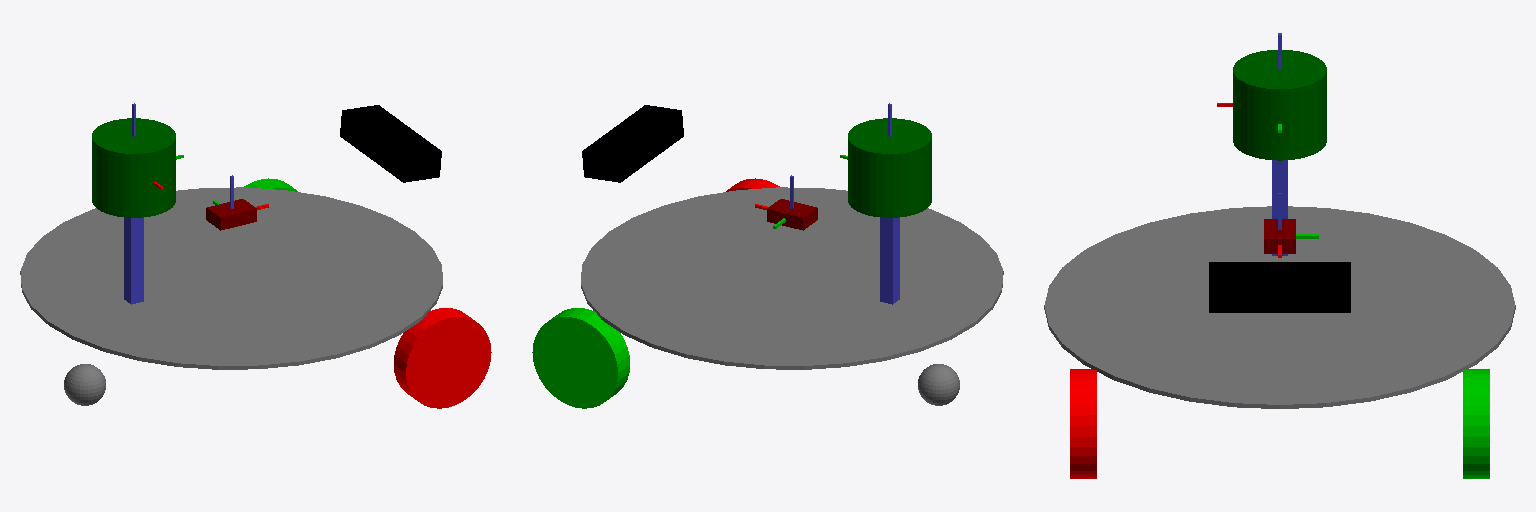
The robot description file, URDF, robot "dome2":
<?xml version="1.0"?>
<robot name="dome2">
  <material name="gray">
    <color rgba="0.5 0.5 0.5 1.0" />
  </material>
  <material name="black">
    <color rgba="0 0 0 1" />
  </material>
  <material name="red">
    <color rgba="1 0 0 1" />
  </material>
  <material name="blue">
    <color rgba="0.3 0.3 0.8 1" />
  </material>
  <material name="green">
    <color rgba="0 0.8 0 1" />
  </material>
  <material name="yellow">
    <color rgba="1 1 0 1" />
  </material>
  <material name="white">
    <color rgba="1 1 1 1" />
  </material>
  <material name="dark_red">
    <color rgba="0.5 0 0 1" />
  </material>
  <material name="dark_green">
    <color rgba="0 0.4 0 1" />
  </material>
  <link name="base_footprint" />
  <link name="base_link">
    <visual>
      <geometry>
        <cylinder radius="0.15" length="0.003" />
      </geometry>
      <material name="gray" />
    </visual>
    <collision>
      <geometry>
        <cylinder radius="0.15" length="0.003" />
      </geometry>
    </collision>
  </link>
  <link name="left_wheel">
    <visual>
      <origin rpy="1.5707963267948966 0 0" />
      <geometry>
        <cylinder radius="0.035" length="0.0175" />
      </geometry>
      <material name="green" />
    </visual>
    <collision>
      <origin rpy="1.5707963267948966 0 0" />
      <geometry>
        <cylinder radius="0.035" length="0.0175" />
      </geometry>
    </collision>
  </link>
  <link name="right_wheel">
    <visual>
      <origin rpy="1.5707963267948966 0 0" />
      <geometry>
        <cylinder radius="0.035" length="0.0175" />
      </geometry>
      <material name="red" />
    </visual>
    <collision>
      <origin rpy="1.5707963267948966 0 0" />
      <geometry>
        <cylinder radius="0.035" length="0.0175" />
      </geometry>
    </collision>
  </link>
  <link name="caster">
    <visual>
      <geometry>
        <sphere radius="0.015" />
      </geometry>
      <material name="gray" />
    </visual>
    <collision>
      <geometry>
        <sphere radius="0.015" />
      </geometry>
    </collision>
  </link>
  <link name="laser_post_link">
    <visual>
      <geometry>
        <box size="0.01 0.01 0.08" />
      </geometry>
      <material name="blue" />
    </visual>
    <collision>
      <geometry>
        <box size="0.01 0.01 0.08" />
      </geometry>
    </collision>
  </link>
  <link name="laser">
    <visual>
      <geometry>
        <cylinder radius="0.03" length="0.05" />
      </geometry>
      <material name="dark_green" />
    </visual>
    <collision>
      <geometry>
        <cylinder radius="0.03" length="0.05" />
      </geometry>
    </collision>
  </link>
  <link name="laser_forward_link">
    <visual>
      <geometry>
        <box size="0.04 0.002 0.002" />
      </geometry>
      <material name="red" />
    </visual>
    <collision>
      <geometry>
        <box size="0.04 0.002 0.002" />
      </geometry>
    </collision>
  </link>
  <link name="laser_left_link">
    <visual>
      <geometry>
        <box size="0.002 0.04 0.002" />
      </geometry>
      <material name="green" />
    </visual>
    <collision>
      <geometry>
        <box size="0.002 0.04 0.002" />
      </geometry>
    </collision>
  </link>
  <link name="laser_up_link">
    <visual>
      <geometry>
        <box size="0.002 0.002 0.04" />
      </geometry>
      <material name="blue" />
    </visual>
    <collision>
      <geometry>
        <box size="0.002 0.002 0.04" />
      </geometry>
    </collision>
  </link>
  <link name="imu_link">
    <visual>
      <geometry>
        <box size="0.03 0.02 0.01" />
      </geometry>
      <material name="dark_red" />
    </visual>
    <collision>
      <geometry>
        <box size="0.03 0.02 0.01" />
      </geometry>
    </collision>
  </link>
  <link name="imu_forward_link">
    <visual>
      <geometry>
        <box size="0.03 0.002 0.002" />
      </geometry>
      <material name="red" />
    </visual>
    <collision>
      <geometry>
        <box size="0.03 0.002 0.002" />
      </geometry>
    </collision>
  </link>
  <link name="imu_left_link">
    <visual>
      <geometry>
        <box size="0.002 0.03 0.002" />
      </geometry>
      <material name="green" />
    </visual>
    <collision>
      <geometry>
        <box size="0.002 0.03 0.002" />
      </geometry>
    </collision>
  </link>
  <link name="imu_up_link">
    <visual>
      <geometry>
        <box size="0.002 0.002 0.03" />
      </geometry>
      <material name="blue" />
    </visual>
    <collision>
      <geometry>
        <box size="0.002 0.002 0.03" />
      </geometry>
    </collision>
  </link>
  <link name="origin_marker_link">
    <visual>
      <geometry>
        <sphere radius="0.001" />
      </geometry>
      <material name="yellow" />
    </visual>
    <collision>
      <geometry>
        <sphere radius="0.001" />
      </geometry>
    </collision>
  </link>
  <link name="camera_link">
    <visual>
      <geometry>
        <box size="0.09 0.02 0.03" />
      </geometry>
      <material name="black" />
    </visual>
    <collision>
      <geometry>
        <box size="0.09 0.02 0.03" />
      </geometry>
    </collision>
  </link>
  <joint name="base_footprint_to_base_link" type="fixed">
    <parent link="base_footprint" />
    <child link="base_link" />
    <origin xyz="0 0 0.07" />
  </joint>
  <joint name="base_link_to_left_wheel" type="continuous">
    <parent link="base_link" />
    <child link="left_wheel" />
    <origin xyz="0.1 0.125 -0.035" />
    <axis xyz="0 1 0" />
  </joint>
  <joint name="base_link_to_right_wheel" type="continuous">
    <parent link="base_link" />
    <child link="right_wheel" />
    <origin xyz="0.1 -0.125 -0.035" />
    <axis xyz="0 1 0" />
  </joint>
  <joint name="base_link_to_caster" type="fixed">
    <parent link="base_link" />
    <child link="caster" />
    <origin xyz="-0.12 0 -0.055" />
  </joint>
  <joint name="base_link_to_imu_link" type="fixed">
    <parent link="base_link" />
    <child link="imu_link" />
    <origin xyz="0.0 0 0.05" rpy="0 0 0" />
  </joint>
  <joint name="imu_link_to_imu_forward_link" type="fixed">
    <parent link="imu_link" />
    <child link="imu_forward_link" />
    <origin xyz="0.015 0 0" />
  </joint>
  <joint name="imu_link_to_imu_left_link" type="fixed">
    <parent link="imu_link" />
    <child link="imu_left_link" />
    <origin xyz="0 0.01 0" />
  </joint>
  <joint name="imu_link_to_imu_up_link" type="fixed">
    <parent link="imu_link" />
    <child link="imu_up_link" />
    <origin xyz="0 0 0.015" />
  </joint>
  <joint name="base_link_to_origin_marker_link" type="fixed">
    <parent link="base_link" />
    <child link="origin_marker_link" />
    <origin xyz="0 0 0" />
  </joint>
  <joint name="base_link_to_laser_post_link" type="fixed">
    <parent link="base_link" />
    <child link="laser_post_link" />
    <origin xyz="-0.08 0 0.04" />
  </joint>
  <joint name="base_link_to_laser" type="fixed">
    <parent link="base_link" />
    <child link="laser" />
    <origin xyz="-0.08 0 0.105" rpy="0 0 -1.5707963267948966" />
  </joint>
  <joint name="laser_to_laser_forward_link" type="fixed">
    <parent link="laser" />
    <child link="laser_forward_link" />
    <origin xyz="0.02 0 0" />
  </joint>
  <joint name="laser_to_laser_left_link" type="fixed">
    <parent link="laser" />
    <child link="laser_left_link" />
    <origin xyz="0 0.02 0" />
  </joint>
  <joint name="laser_to_laser_up_link" type="fixed">
    <parent link="laser" />
    <child link="laser_up_link" />
    <origin xyz="0 0 0.03" />
  </joint>
  <joint name="base_link_to_camera_link" type="fixed">
    <parent link="base_link" />
    <child link="camera_link" />
    <origin xyz="0.13 0 0.075" rpy="-1.6580627893946132 0 -1.5707963267948966" />
  </joint>
</robot>

--- What the picture shows (computed from the rendered views, not written in the file) ---
Views: 3 orthographic renders of the robot side by side, from view 1: azimuth 30°, elevation 25°; view 2: azimuth 150°, elevation 25°; view 3: azimuth 270°, elevation 25°.
Robot: dome2 — 16 links, 15 joints (2 continuous, 13 fixed); root link base_footprint; default pose: every joint at zero.
Visible links, largest first — view 1: base_link, laser, right_wheel, camera_link, laser_post_link, caster, imu_link; view 2: base_link, laser, left_wheel, camera_link, laser_post_link, caster, imu_link; view 3: base_link, laser, camera_link, left_wheel, right_wheel, imu_link, laser_post_link.
Link boxes in pixels (bbox=[...]): base_link: bbox=[20, 187, 442, 369]; laser: bbox=[92, 118, 175, 217]; right_wheel: bbox=[394, 308, 491, 408]; camera_link: bbox=[340, 105, 441, 182]; laser_post_link: bbox=[124, 217, 143, 304]; caster: bbox=[64, 364, 105, 405]; imu_link: bbox=[206, 199, 256, 230]; base_link: bbox=[581, 187, 1003, 369]; laser: bbox=[848, 118, 931, 217]; left_wheel: bbox=[532, 308, 629, 408]; camera_link: bbox=[582, 105, 683, 182]; laser_post_link: bbox=[880, 217, 899, 304]; caster: bbox=[918, 364, 959, 405]; imu_link: bbox=[767, 199, 817, 230]; base_link: bbox=[1044, 206, 1515, 408]; laser: bbox=[1233, 50, 1326, 160]; camera_link: bbox=[1209, 262, 1350, 312]; left_wheel: bbox=[1463, 369, 1489, 478]; right_wheel: bbox=[1070, 369, 1096, 478]; imu_link: bbox=[1264, 219, 1295, 253]; laser_post_link: bbox=[1272, 160, 1287, 255].
Size in the robot's own frame: 0.3 by 0.3 by 0.225 metres.
Geometry: primitives only (box / cylinder / sphere), no mesh files.
